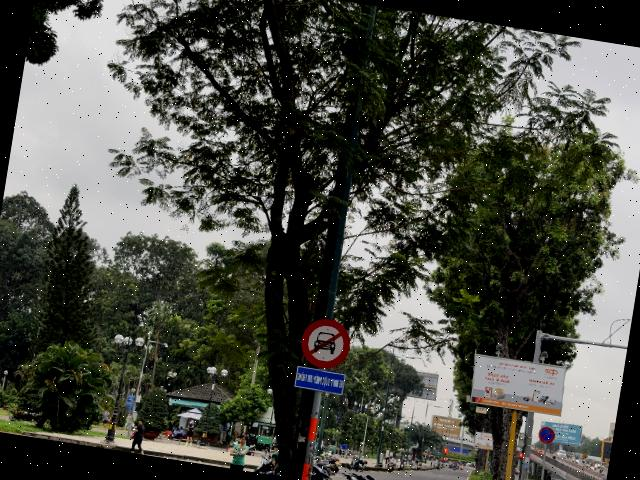cam-o-to: (298, 316, 352, 372)
